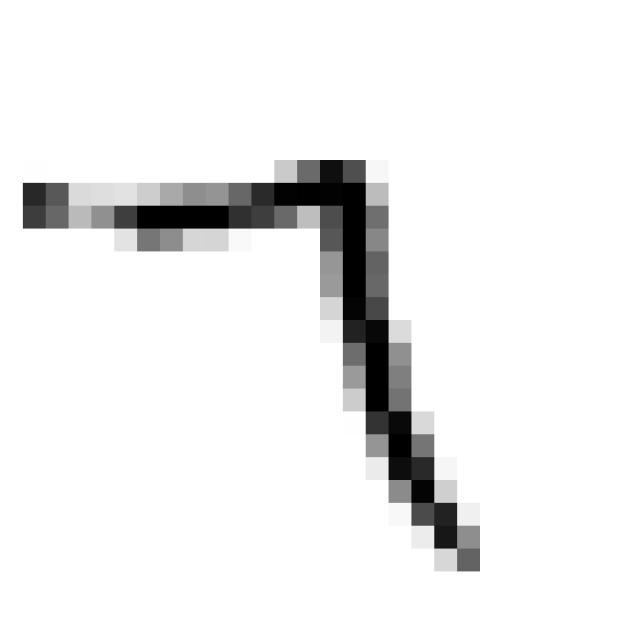6 -six-: (7, 142, 497, 589)
